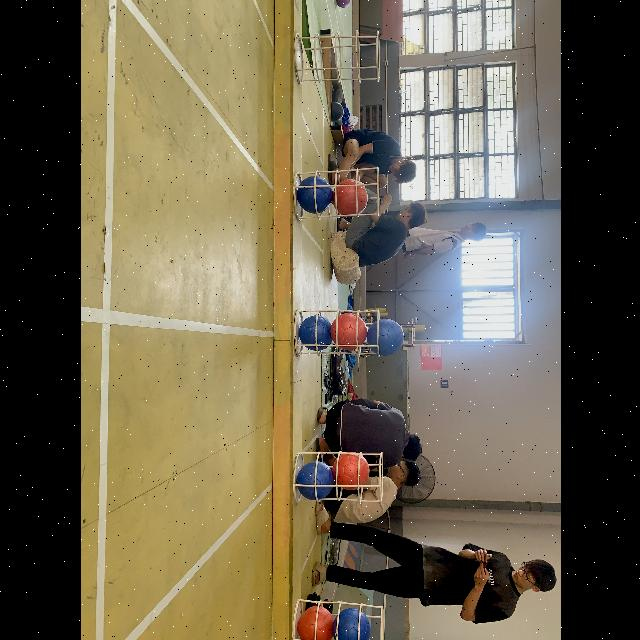B: (294, 462, 332, 501), (295, 176, 331, 214), (367, 319, 403, 355), (330, 608, 370, 640), (297, 316, 331, 350)
R: (332, 452, 368, 491), (330, 313, 366, 351), (296, 604, 332, 640), (334, 180, 366, 214)
